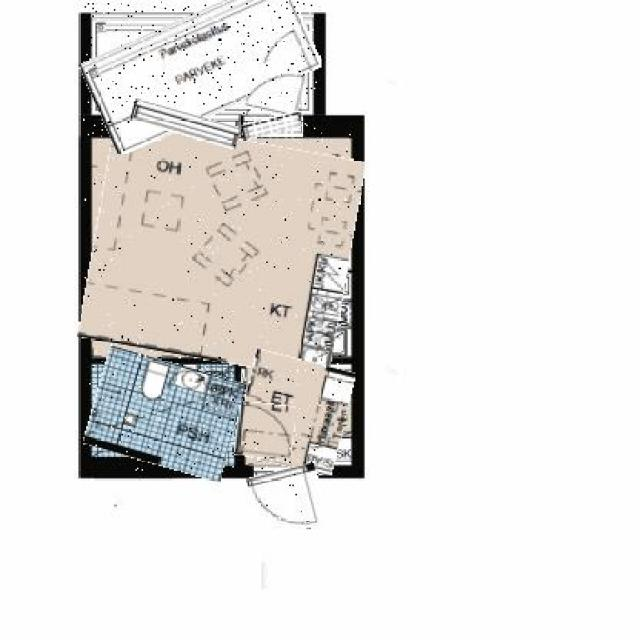door: (249, 468, 325, 535), (236, 402, 296, 458), (246, 64, 305, 116)
window: (131, 106, 240, 143), (242, 115, 302, 137)
zone: (85, 129, 357, 369), (83, 0, 317, 134), (89, 355, 240, 474), (237, 355, 351, 471)
